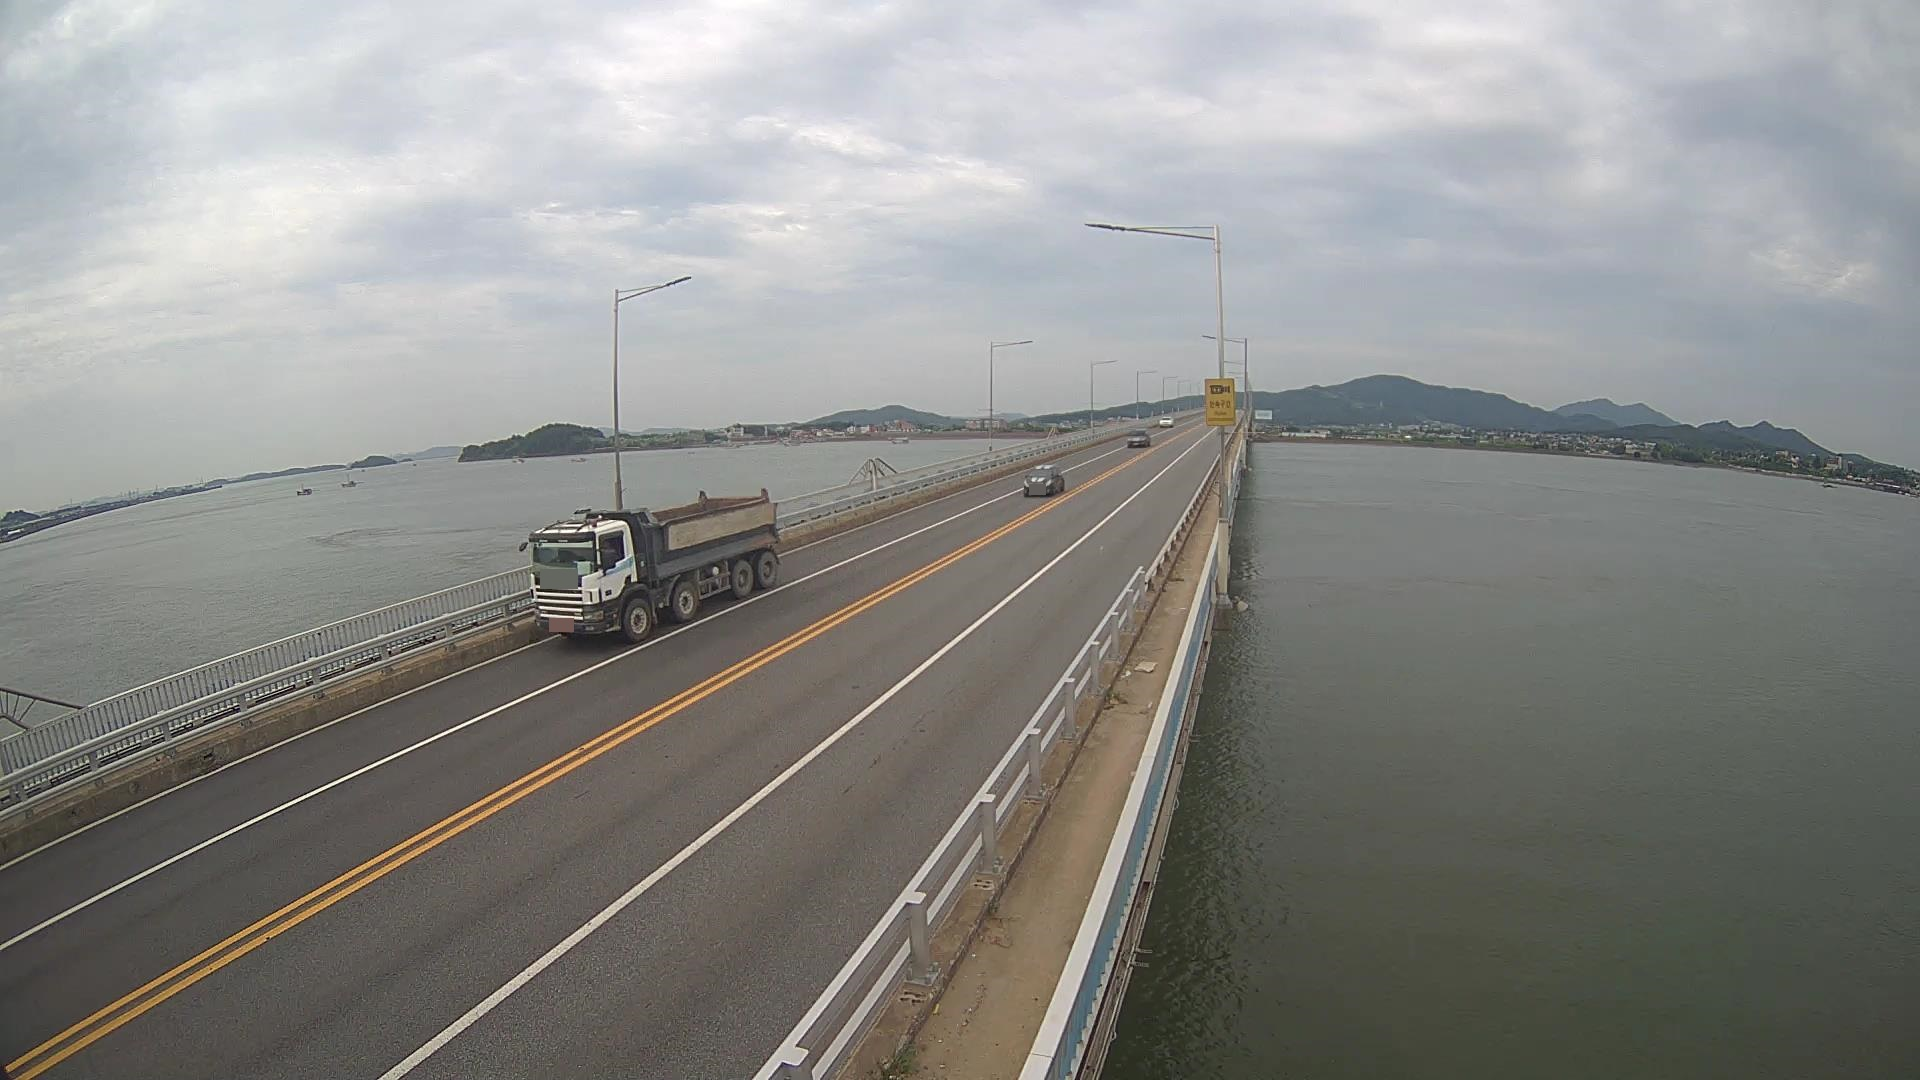정상차량: (518, 488, 782, 644)
